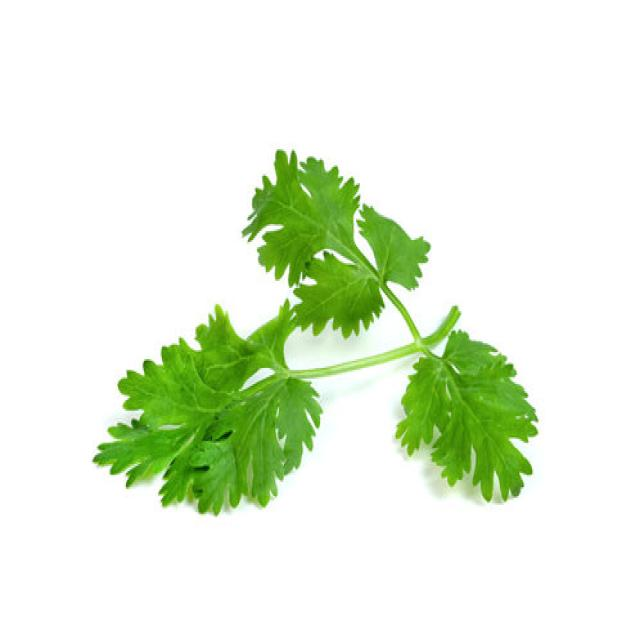Coriander Leaves: (91, 145, 538, 516)
